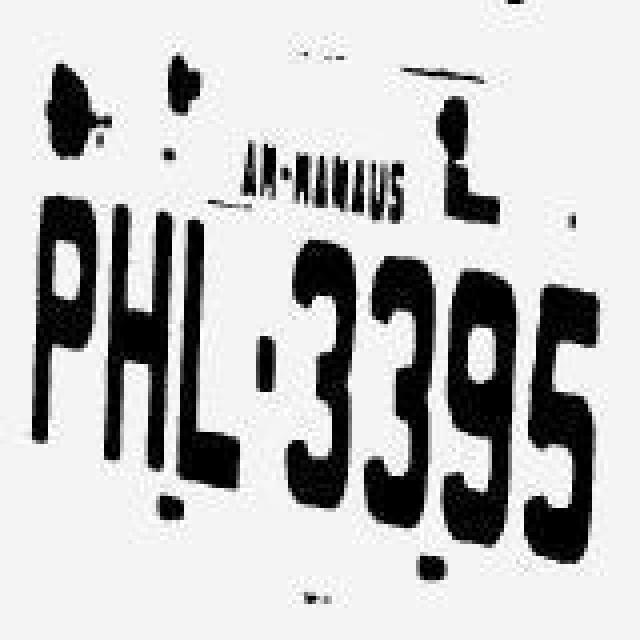3: (360, 252, 440, 532), (286, 236, 362, 516)
5: (522, 284, 614, 572)
9: (438, 268, 522, 556)
H: (102, 200, 178, 480)
L: (174, 214, 250, 490)
P: (24, 178, 104, 478)
